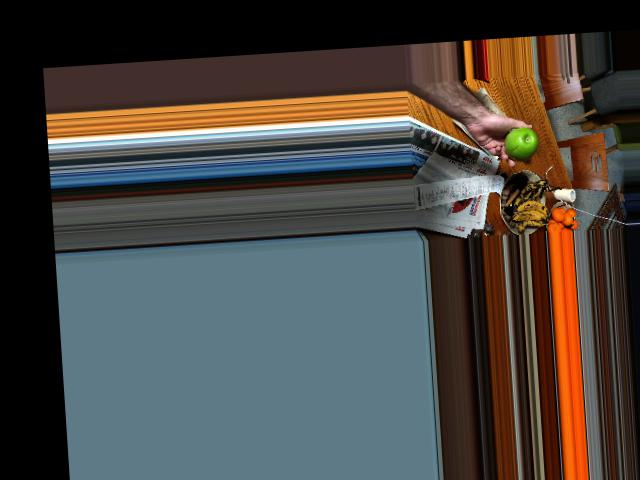apple: (501, 126, 540, 161)
